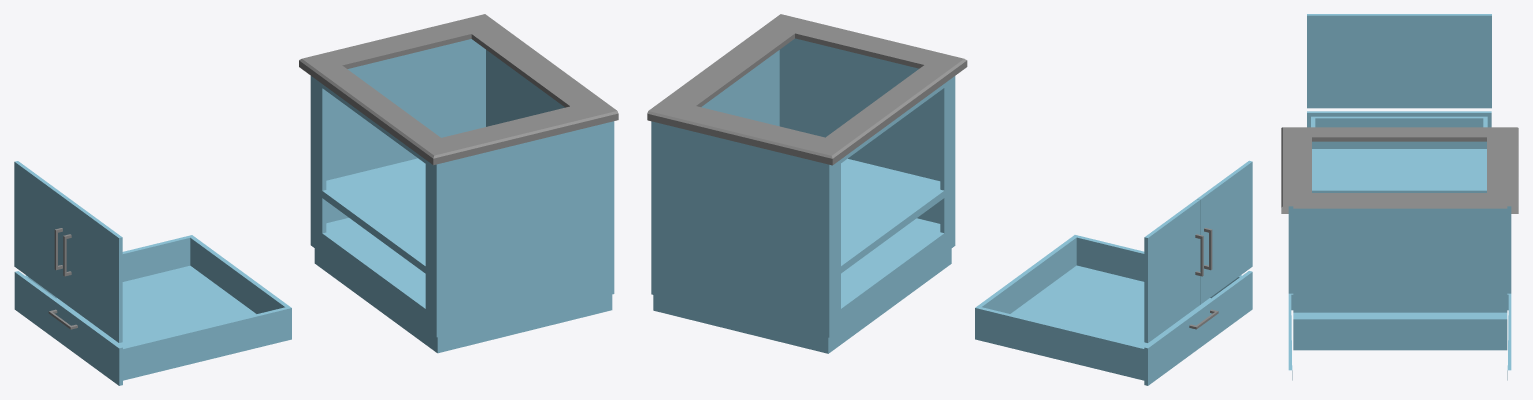
File: KITCHEN_02.FBX
The picture shows the model from 3 angles, left to right: view 1: azimuth 30°, elevation 25°; view 2: azimuth 150°, elevation 25°; view 3: azimuth 270°, elevation 25°; orthographic projection. The views are drawn at different scales.
Visible parts, largest first — view 1: KITCHEN_02_base, KITCHEN_02_inside, KITCHEN_02_drawer_inside, KITCHEN_02_rightClosetDoor, KITCHEN_02_leftClosetDoor, KITCHEN_02_drawer; view 2: KITCHEN_02_base, KITCHEN_02_inside, KITCHEN_02_drawer_inside, KITCHEN_02_leftClosetDoor, KITCHEN_02_rightClosetDoor, KITCHEN_02_drawer; view 3: KITCHEN_02_inside, KITCHEN_02_base, KITCHEN_02_drawer_inside, KITCHEN_02_rightClosetDoor, KITCHEN_02_leftClosetDoor, KITCHEN_02_drawer.
Part boxes in pixels (x1,y1,x2,y2): KITCHEN_02_base: [299, 14, 618, 353]; KITCHEN_02_inside: [322, 34, 569, 308]; KITCHEN_02_drawer_inside: [25, 235, 291, 380]; KITCHEN_02_rightClosetDoor: [63, 199, 122, 342]; KITCHEN_02_leftClosetDoor: [14, 161, 69, 304]; KITCHEN_02_drawer: [14, 271, 122, 385]; KITCHEN_02_base: [647, 14, 967, 353]; KITCHEN_02_inside: [696, 33, 944, 308]; KITCHEN_02_drawer_inside: [975, 235, 1241, 380]; KITCHEN_02_leftClosetDoor: [1144, 199, 1203, 342]; KITCHEN_02_rightClosetDoor: [1197, 160, 1252, 304]; KITCHEN_02_drawer: [1144, 271, 1252, 385]; KITCHEN_02_inside: [1293, 137, 1507, 350]; KITCHEN_02_base: [1281, 127, 1518, 380]; KITCHEN_02_drawer_inside: [1307, 113, 1491, 192]; KITCHEN_02_rightClosetDoor: [1307, 14, 1399, 108]; KITCHEN_02_leftClosetDoor: [1399, 14, 1491, 108]; KITCHEN_02_drawer: [1307, 111, 1491, 112].
Bounding box in the file's own units: 270 × 107 × 128.
